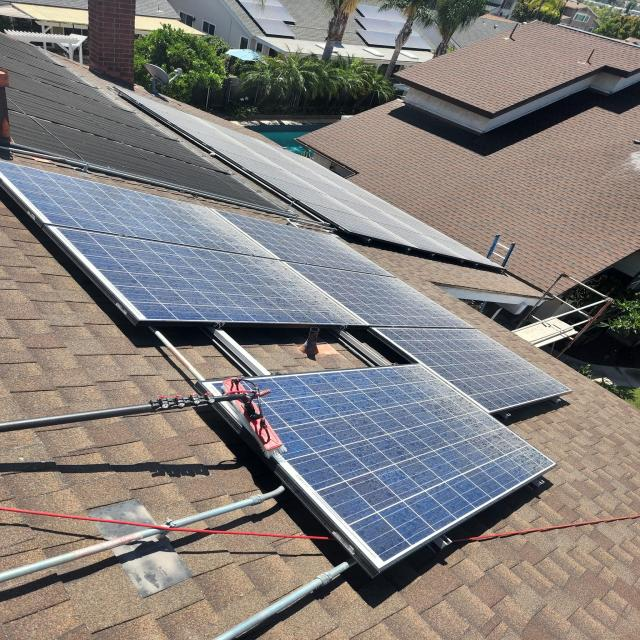dust-solar-panel: (0, 162, 573, 571)
